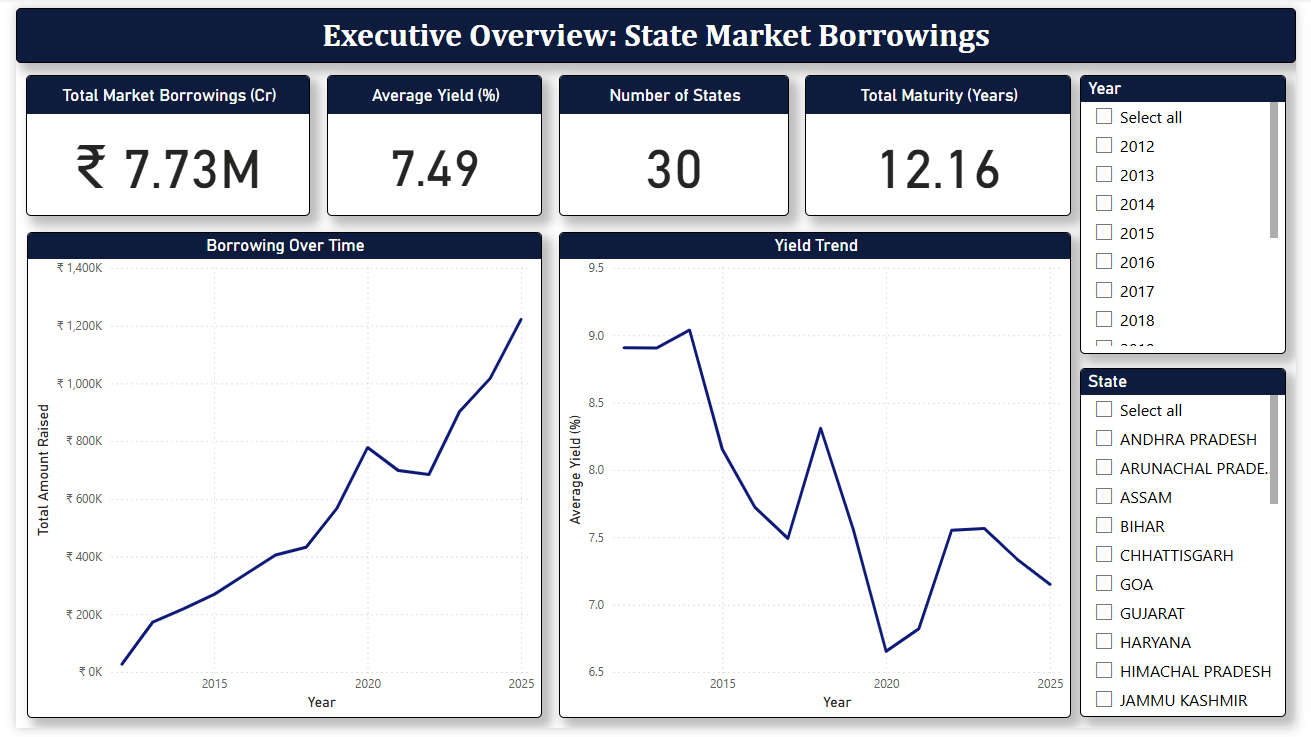

The page's visual inventory and layout, read from the dashboard file:
{"tool":"powerbi","page":{"name":"Overview","canvas":[1280,720],"ordinal":0},"visuals":[{"type":"card","title":"Total Market Borrowings (Cr)","fields":{"Values":["Sum(clean_state_market_borrowings (2).notified_amount)"]},"box":[10,67,284,141],"z":0},{"type":"card","title":"Average Yield (%)","fields":{"Values":["Avg(clean_state_market_borrowings (2).Cut Off Yield)"]},"box":[311,67,215,141],"z":1000},{"type":"card","title":"Number of States","fields":{"Values":["Count(clean_state_market_borrowings (2).state)"]},"box":[543,67,230,141],"z":2000},{"type":"card","title":"Total Maturity (Years)","fields":{"Values":["Avg(clean_state_market_borrowings (2).maturity_residual_period)"]},"box":[789,67,266,141],"z":3000},{"type":"lineChart","title":"Borrowing Over Time","fields":{"Category":["clean_state_market_borrowings (2).issue_date.Variation.Date Hierarchy.Year","clean_state_market_borrowings (2).issue_date.Variation.Date Hierarchy.Quarter","clean_state_market_borrowings (2).issue_date.Variation.Date Hierarchy.Month","clean_state_market_borrowings (2).issue_date.Variation.Date Hierarchy.Day"],"Y":["Sum(clean_state_market_borrowings (2).notified_amount)"]},"box":[11,224,515,486],"z":4000},{"type":"lineChart","title":"Yield Trend","fields":{"Category":["clean_state_market_borrowings (2).issue_date.Variation.Date Hierarchy.Year","clean_state_market_borrowings (2).issue_date.Variation.Date Hierarchy.Quarter","clean_state_market_borrowings (2).issue_date.Variation.Date Hierarchy.Month","clean_state_market_borrowings (2).issue_date.Variation.Date Hierarchy.Day"],"Y":["Avg(clean_state_market_borrowings (2).Cut Off Yield)"]},"box":[543,224,512,486],"z":5000},{"type":"slicer","title":"Year","fields":{"Values":["clean_state_market_borrowings (2).year"]},"box":[1064,67,206,279],"z":6000},{"type":"slicer","title":"State","fields":{"Values":["clean_state_market_borrowings (2).state"]},"box":[1064,360,206,349],"z":7000},{"type":"textbox","box":[0,0,1280,55],"z":8000}]}

Visuals, with their boxes in screenshot pixels (x1, y1, x2, y2), scaled from the page's 1280x720 canvas onto the 1311x737 screenshot:
"Total Market Borrowings (Cr)" card: x1=10 y1=69 x2=301 y2=213
"Average Yield (%)" card: x1=319 y1=69 x2=539 y2=213
"Number of States" card: x1=556 y1=69 x2=792 y2=213
"Total Maturity (Years)" card: x1=808 y1=69 x2=1081 y2=213
"Borrowing Over Time" lineChart: x1=11 y1=229 x2=539 y2=727
"Yield Trend" lineChart: x1=556 y1=229 x2=1081 y2=727
"Year" slicer: x1=1090 y1=69 x2=1301 y2=354
"State" slicer: x1=1090 y1=368 x2=1301 y2=726
textbox: x1=0 y1=0 x2=1310 y2=56
